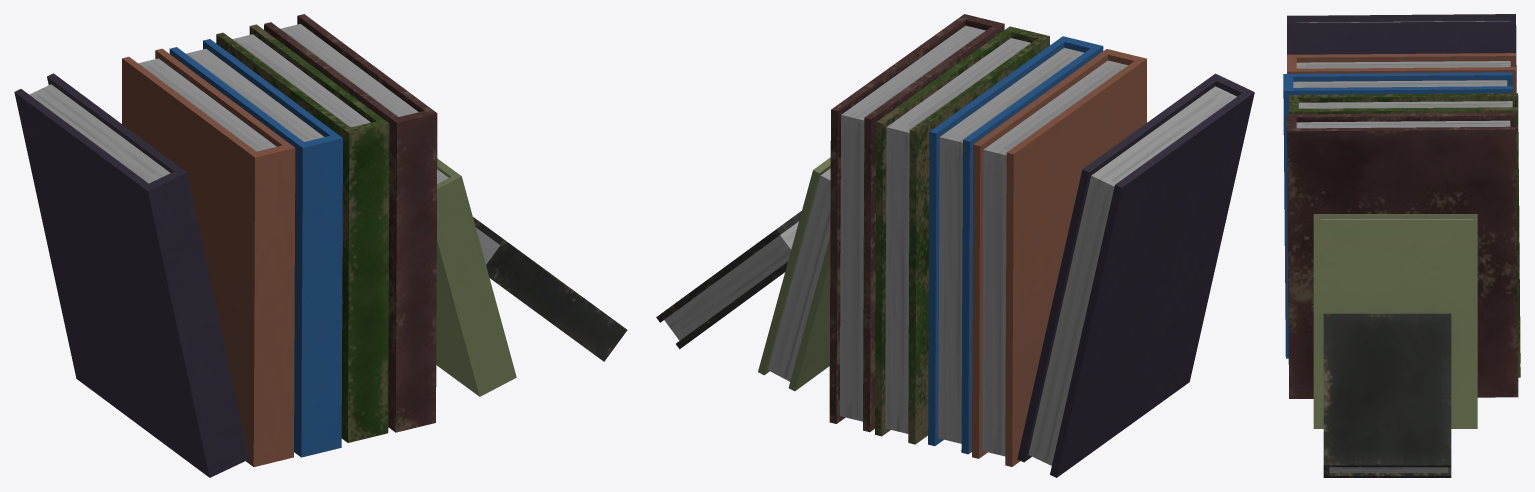
The model's file is BooksB.glb.
3 views of the same model, side by side, from view 1: azimuth 30°, elevation 25°; view 2: azimuth 150°, elevation 25°; view 3: azimuth 270°, elevation 25° (orthographic). The views are drawn at different scales.
Parts seen in each view (by area): view 1: BooksB; view 2: BooksB; view 3: BooksB.
Boxes of the visible parts, box(x1,y1,x2,y2) form: BooksB: box(14, 14, 627, 477); BooksB: box(656, 14, 1254, 477); BooksB: box(1283, 14, 1520, 477).
Bounding box in the file's own units: 0.6473 × 0.3875 × 0.3075.
Materials: 1 (1 with a texture image).
